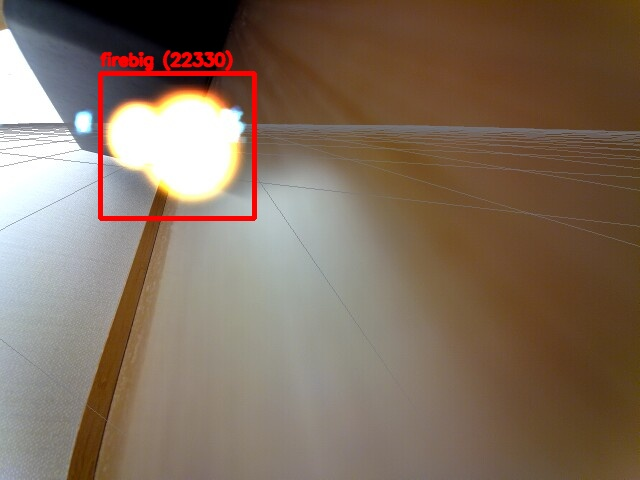firebig: (100, 73, 254, 218)
